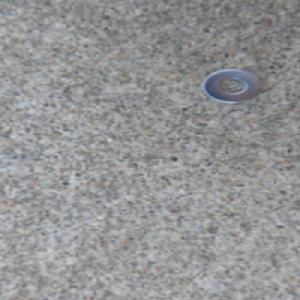Washer: (197, 68, 265, 107)
